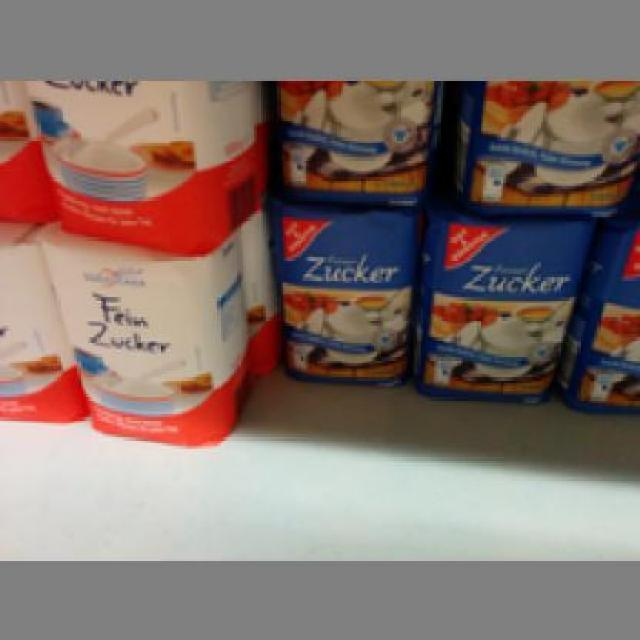Sugar: (37, 223, 243, 446), (22, 80, 258, 246), (412, 206, 592, 406), (263, 192, 412, 388), (442, 76, 638, 212), (266, 77, 443, 200)
